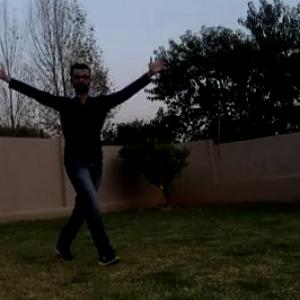takeoff: (1, 65, 133, 264)
